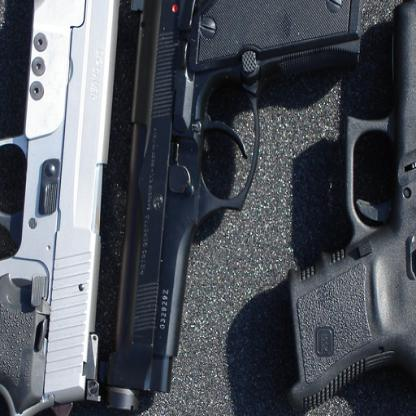gun: (102, 0, 370, 415), (0, 0, 130, 415), (287, 0, 415, 415)
